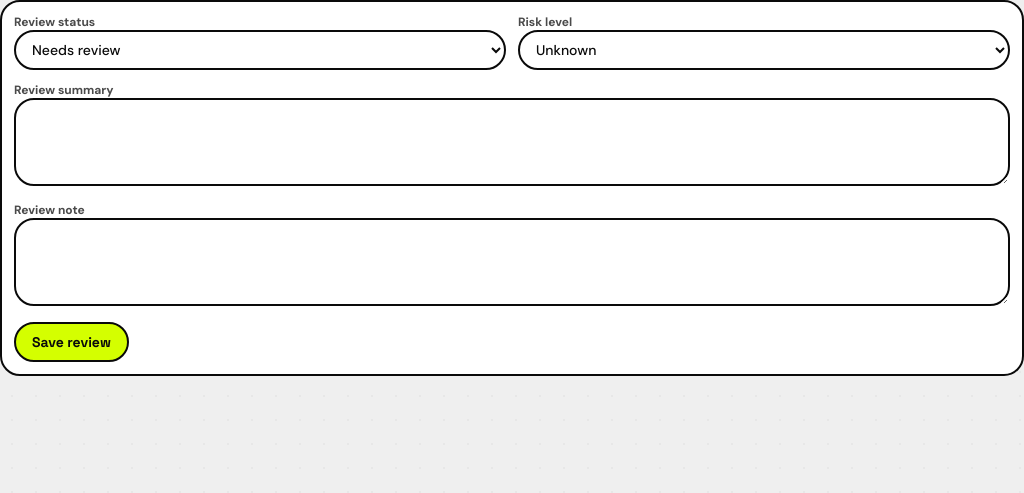
Test case: Operator continuation acceptance › UC-A25: failed review must show an actionable error and retain the note
The image size is (1024, 493).
Step 1. Type "Synthetic review rationale" into the text box labelled "Review note" → point(512, 262), box [14,218,1010,306]
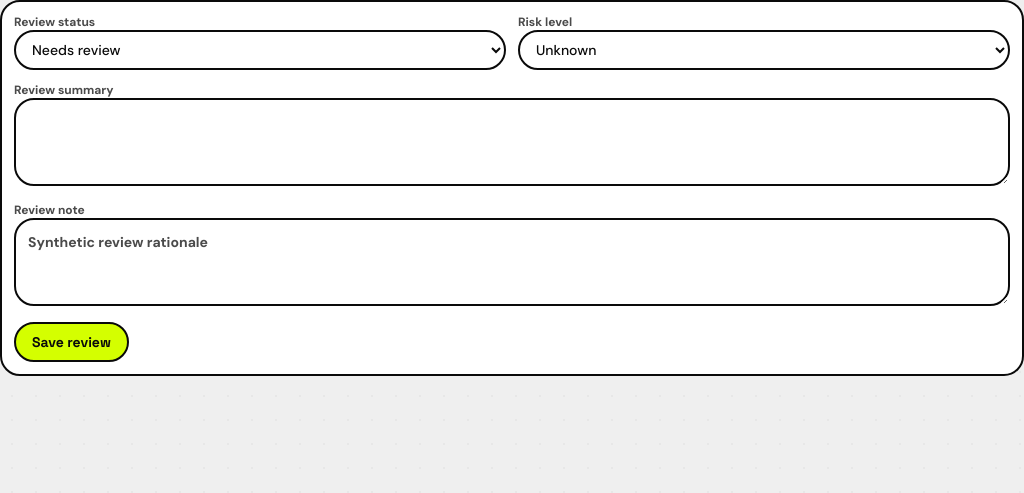
Step 2. Click the button with aria-label "Save review action" → point(71, 342), box [14,322,129,362]
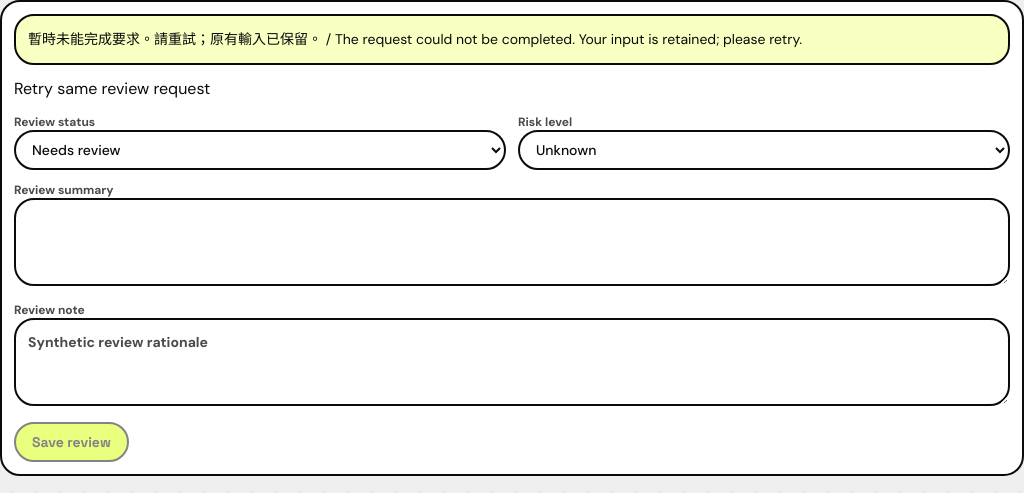
Expected: the message is shown, [14,14,1010,65]
